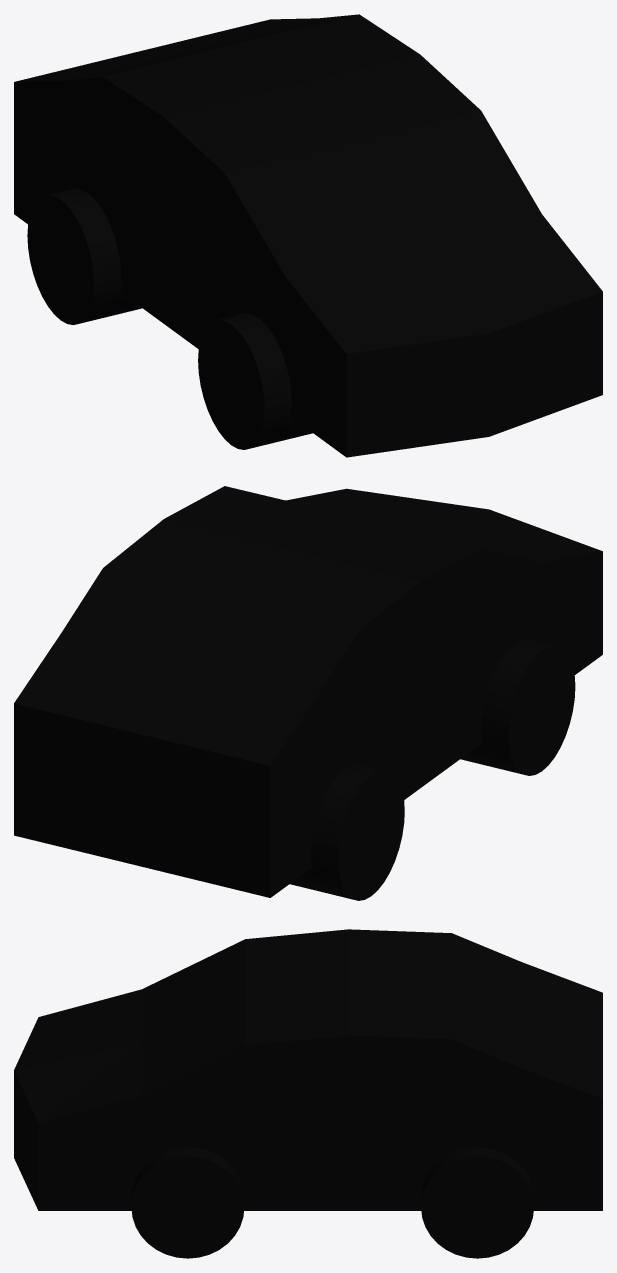
The model's file is player_Body.obj.
The picture shows the model from 3 angles, top to bottom: view 1: azimuth 30°, elevation 25°; view 2: azimuth 150°, elevation 25°; view 3: azimuth 270°, elevation 25°; orthographic projection. The views are drawn at different scales.
Parts seen in each view (by area): view 1: 立方体, 円柱, 円柱.001; view 2: 立方体, 円柱.001, 円柱; view 3: 立方体, 円柱, 円柱.001.
Boxes of the visible parts, <box> form: 立方体: <box>14,14,602,457</box>; 円柱: <box>198,313,312,449</box>; 円柱.001: <box>27,188,141,324</box>; 立方体: <box>14,486,602,897</box>; 円柱.001: <box>290,764,404,900</box>; 円柱: <box>460,639,575,775</box>; 立方体: <box>14,929,602,1210</box>; 円柱: <box>131,1147,244,1258</box>; 円柱.001: <box>421,1147,533,1258</box>.
Size of the model in its own units: 2.38 by 1.88 by 4.69.
Materials: 3 (3 with a texture image).
